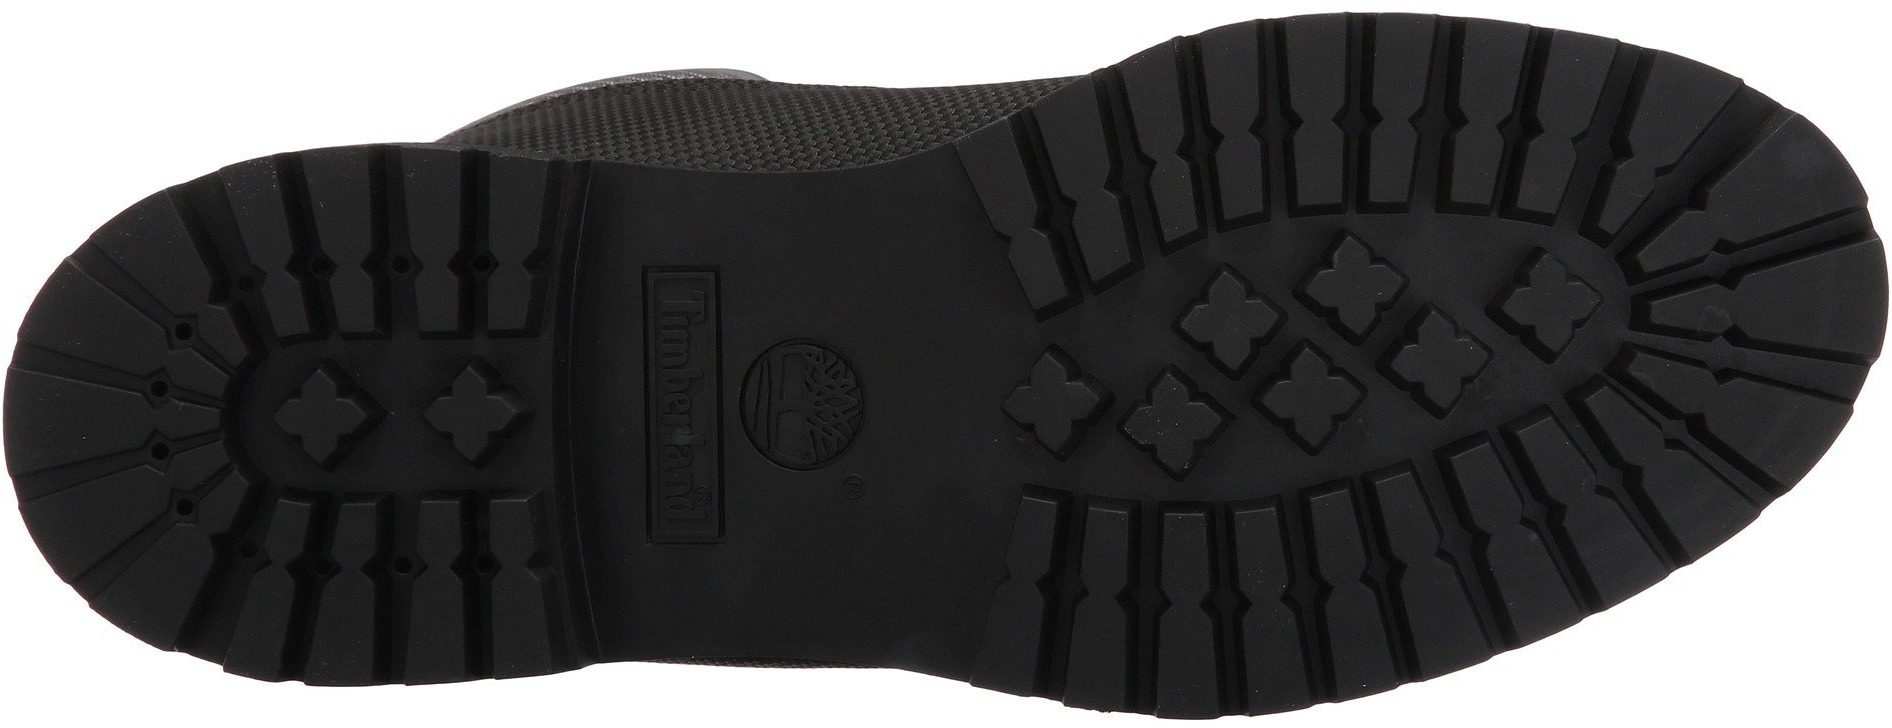bowtie: (954, 33, 1193, 332), (1611, 197, 1847, 432), (1065, 485, 1309, 706), (1202, 17, 1433, 235), (326, 141, 550, 345), (319, 488, 544, 686), (1443, 63, 1608, 243), (989, 129, 1191, 276), (1466, 432, 1640, 596), (106, 363, 211, 473)
circle: (719, 322, 881, 487), (106, 363, 211, 473)
exclude: (381, 14, 1190, 171), (550, 161, 662, 669)
line: (719, 322, 881, 487)
other: (799, 507, 958, 656), (802, 177, 941, 311)
star: (261, 349, 391, 481), (409, 345, 536, 478)
text: (650, 354, 716, 421), (660, 424, 718, 487), (652, 295, 711, 349)
